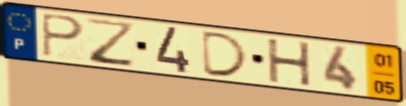4: (154, 25, 193, 75), (321, 44, 360, 93)
D: (201, 30, 252, 80)
H: (264, 37, 314, 88)
P: (39, 11, 87, 59)
Z: (84, 16, 138, 69)
